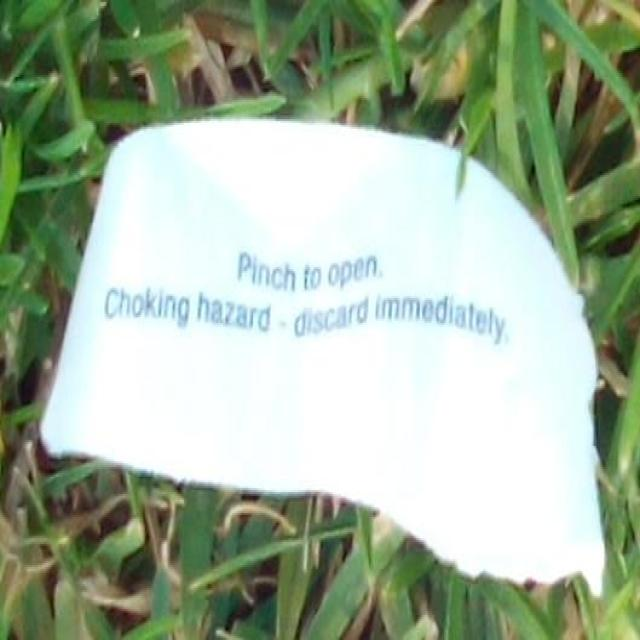litter: (36, 117, 605, 602)
